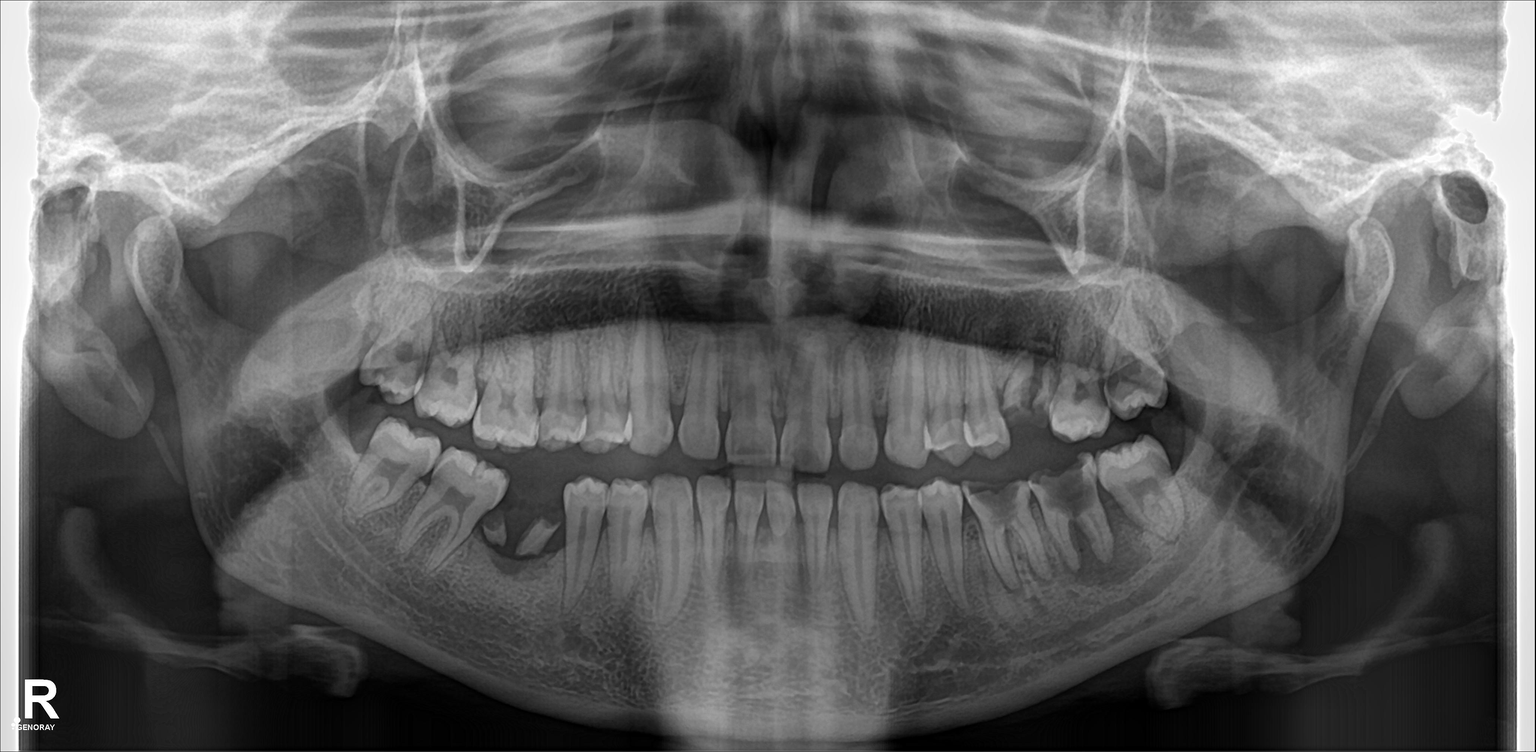Dental Caries: (1035, 471, 1097, 517), (959, 475, 1018, 515), (1106, 354, 1140, 401)
Missing Tooth: (333, 382, 374, 466)
Retained Root: (1006, 352, 1059, 447), (521, 490, 566, 559), (479, 493, 515, 566)
